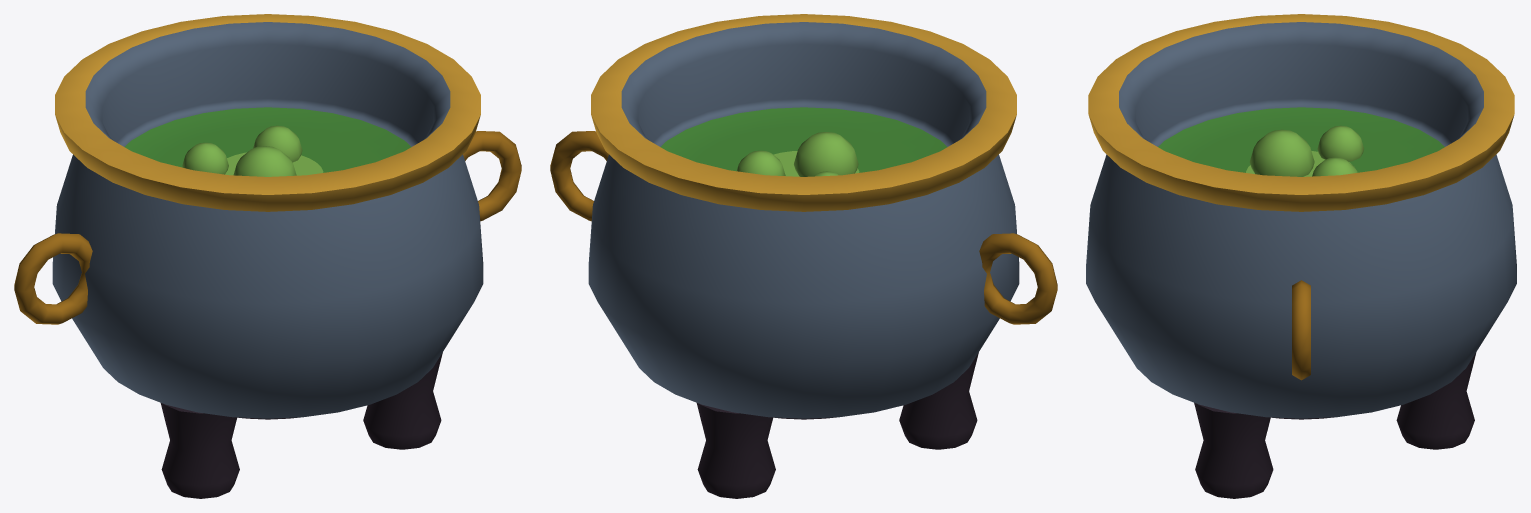
File: Cauldron_10.glb
3 views of the same model, side by side, from view 1: azimuth 30°, elevation 25°; view 2: azimuth 150°, elevation 25°; view 3: azimuth 270°, elevation 25° (orthographic).
Parts seen in each view (by area): view 1: Cauldron_10; view 2: Cauldron_10; view 3: Cauldron_10.
Part boxes in pixels (box(x1,y1,x2,y2)): Cauldron_10: box(14, 14, 521, 498); Cauldron_10: box(550, 14, 1057, 498); Cauldron_10: box(1086, 14, 1516, 498).
Size of the model in its own units: 4.18 by 2.64 by 3.07.
